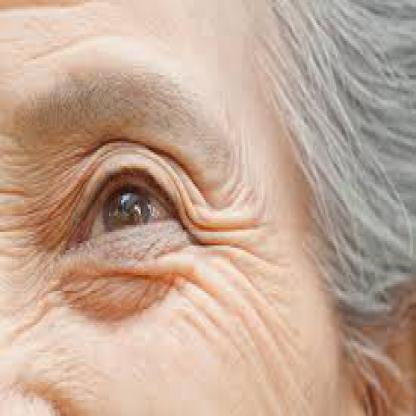puffyeye: (48, 236, 186, 318), (86, 116, 191, 161)
wrinkle: (198, 177, 309, 414), (23, 150, 74, 221), (19, 32, 119, 54)
